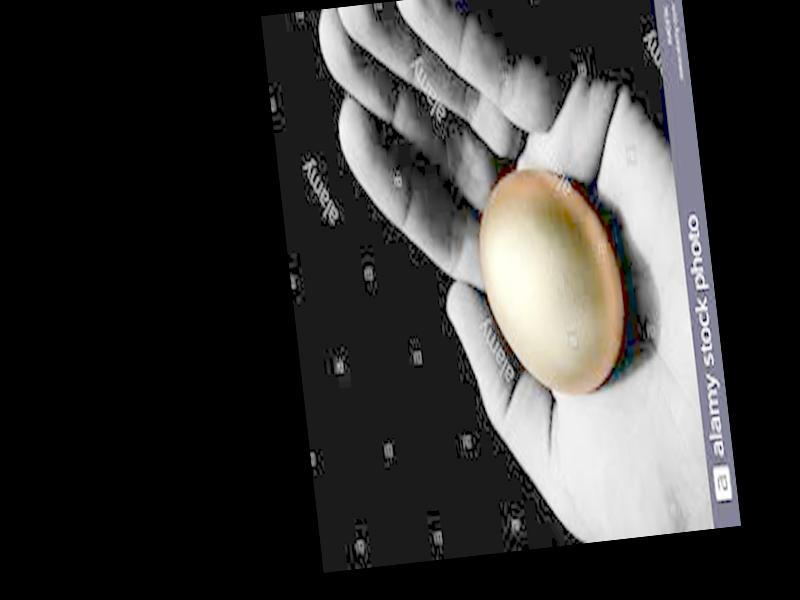Eggs: (471, 159, 629, 401)
